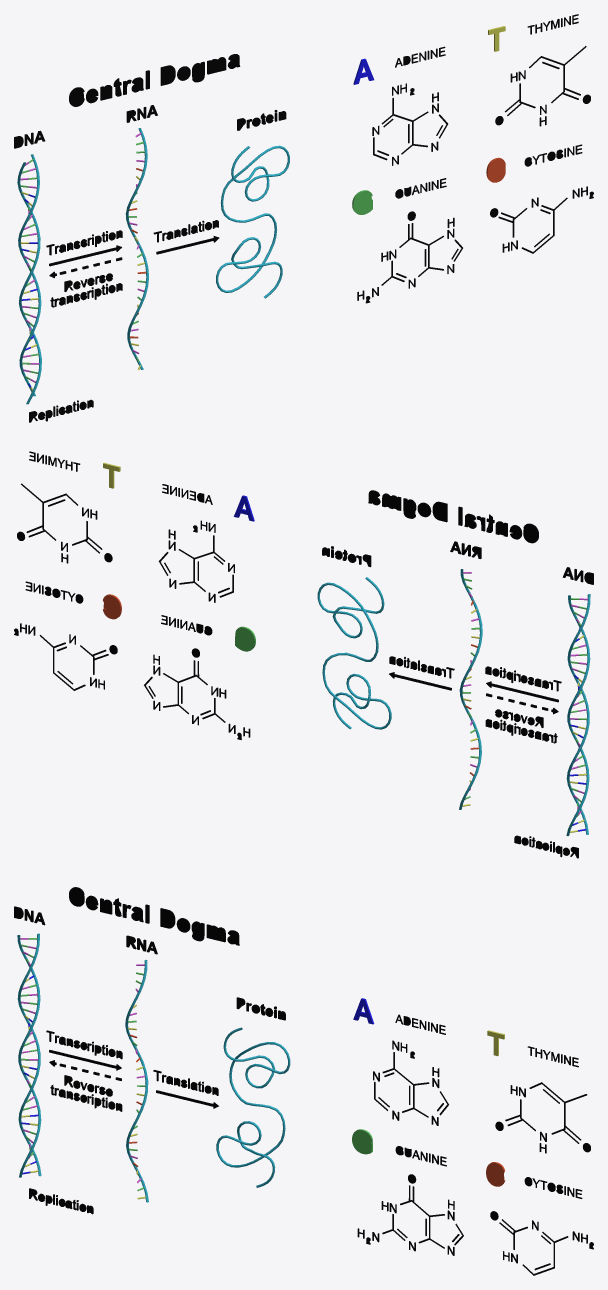
Rendered from DNA.fbx.
The picture shows the model from 3 angles, top to bottom: view 1: azimuth 30°, elevation 25°; view 2: azimuth 150°, elevation 25°; view 3: azimuth 330°, elevation 25°; orthographic projection.
Parts seen in each view (by area): view 1: Group003, Group001, Line002, Group002; view 2: Group003, Group001, Line002, Group002; view 3: Group003, Group001, Line002, Group002.
Boxes of the visible parts, x1,y1,x2,y2 form: Group003: (14, 14, 593, 422); Group001: (17, 154, 41, 404); Line002: (216, 145, 289, 298); Group002: (125, 128, 148, 370); Group003: (14, 451, 593, 858); Group001: (566, 594, 590, 835); Line002: (317, 577, 391, 729); Group002: (459, 569, 482, 809); Group003: (14, 887, 593, 1275); Group001: (17, 933, 41, 1177); Line002: (216, 1027, 290, 1187); Group002: (125, 960, 148, 1202).
Bounding box in the file's own units: 21585 × 11592 × 759.
